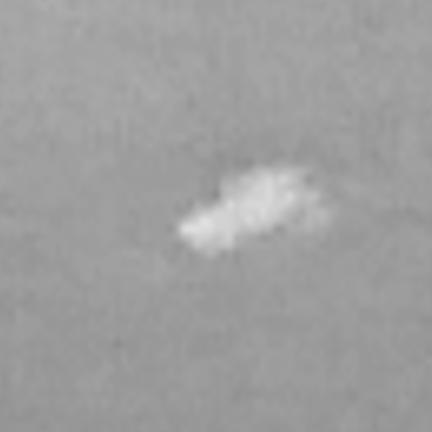flukeprints: (178, 165, 327, 256)
